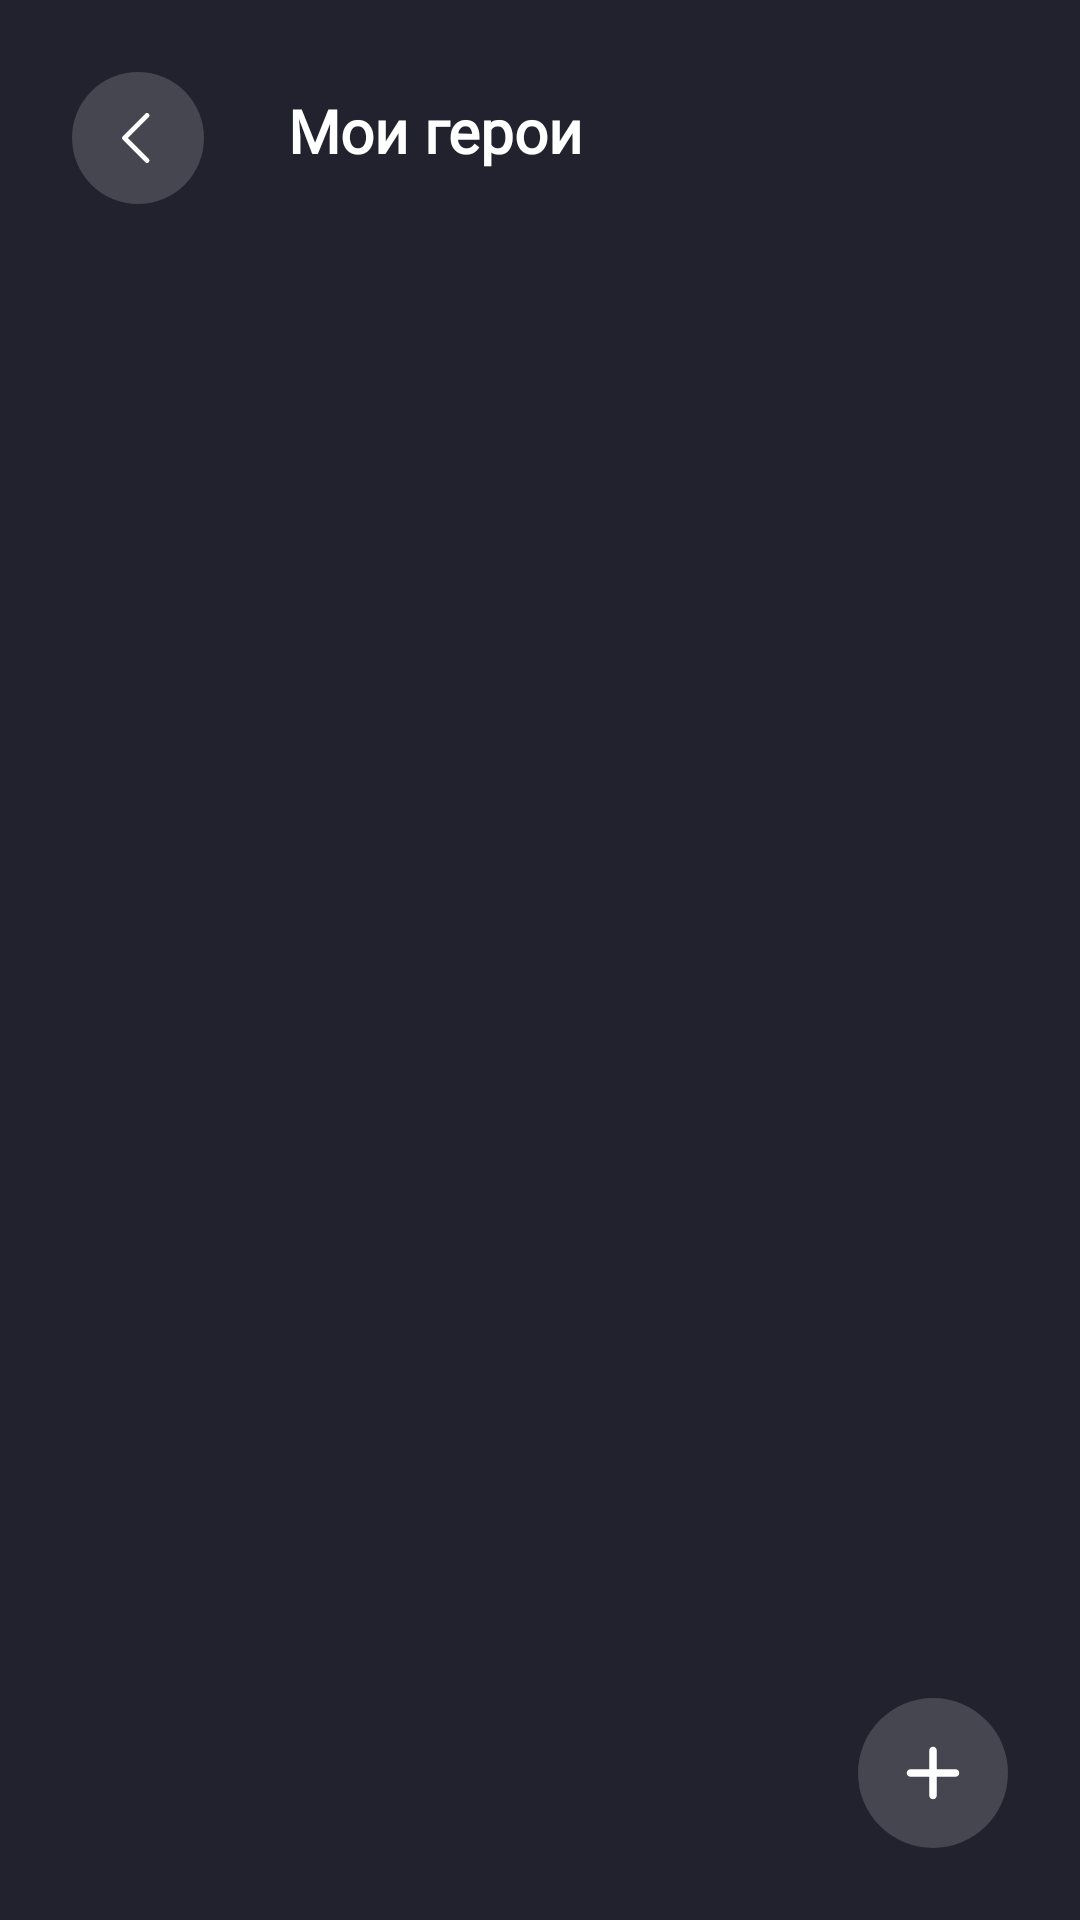

Named icons in this screenshot (1080×1920) and their bounding boxes, (x1, y1, x2, y2):
left arrow: (72, 72, 204, 204)
plus: (858, 1698, 1008, 1848)
